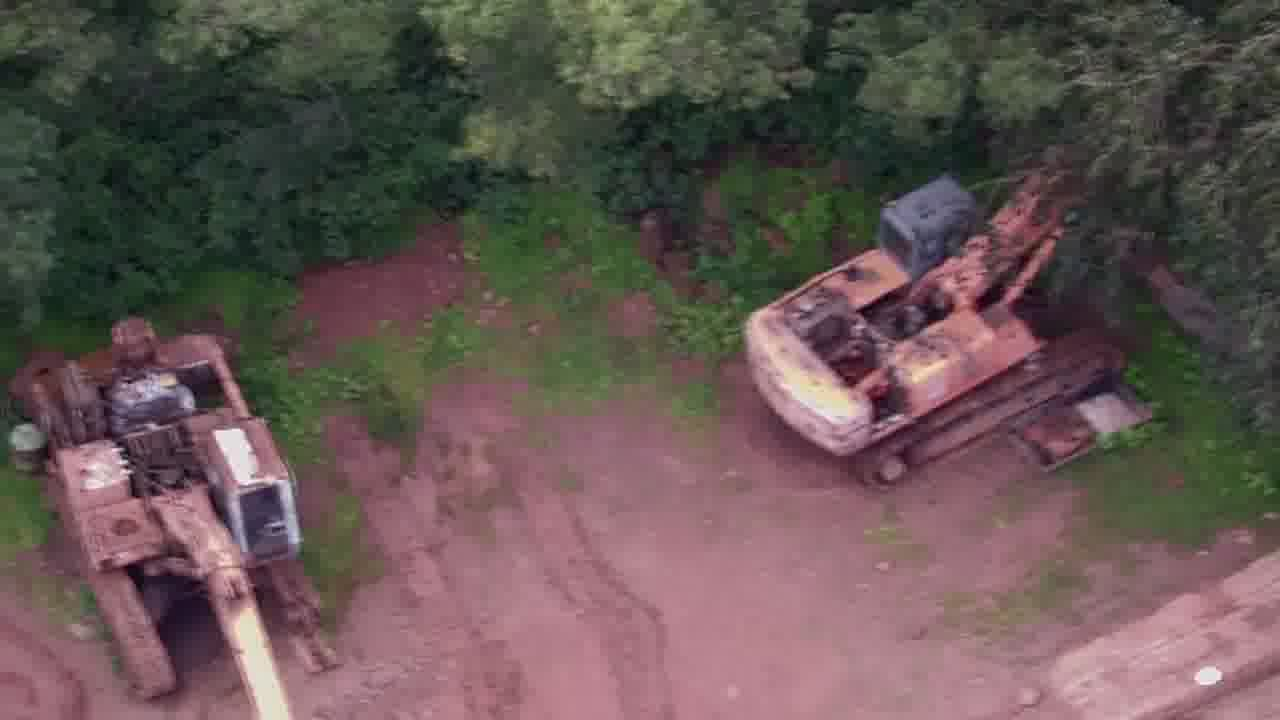HMV: (737, 114, 1150, 496), (26, 291, 303, 720)
